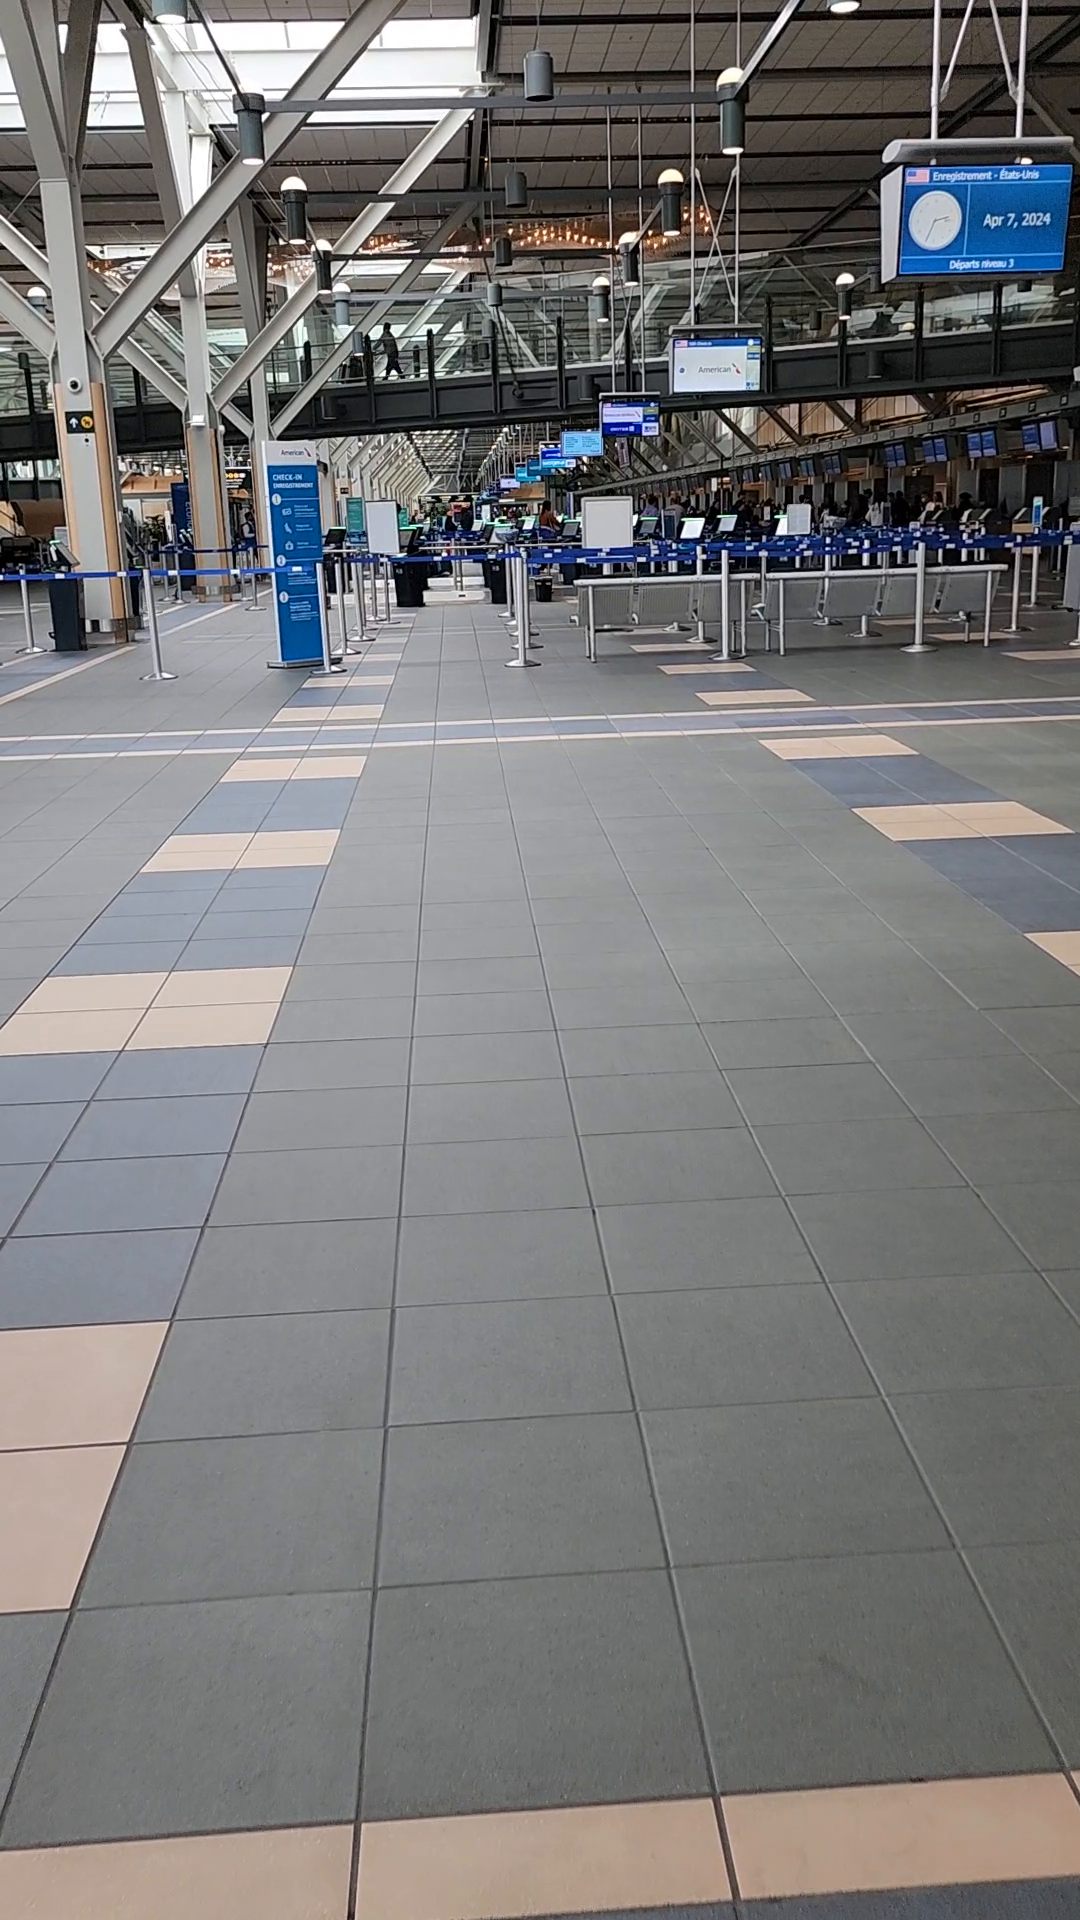Stain: (287, 1366, 371, 1429), (804, 1639, 881, 1693)
